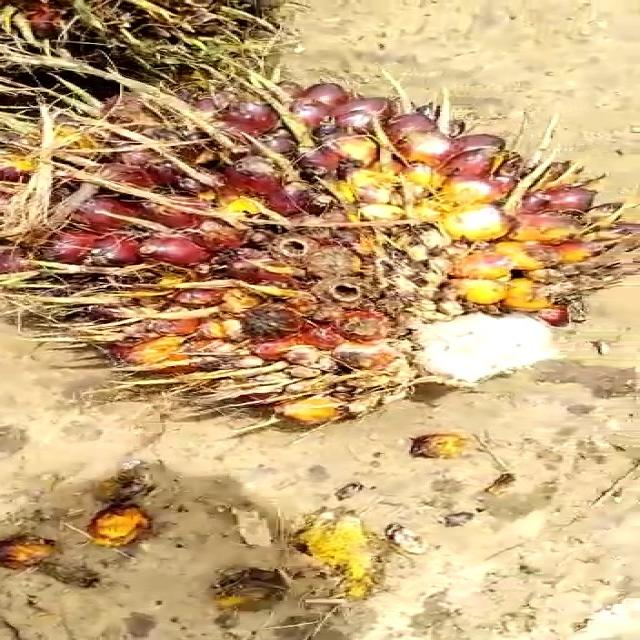palm oil: (34, 76, 611, 439)
